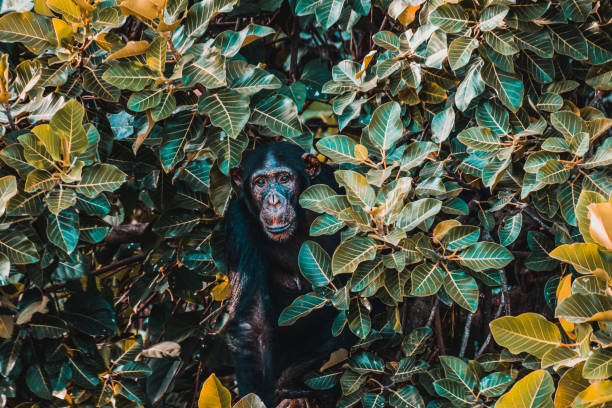chimpanzee: (231, 142, 312, 261)
